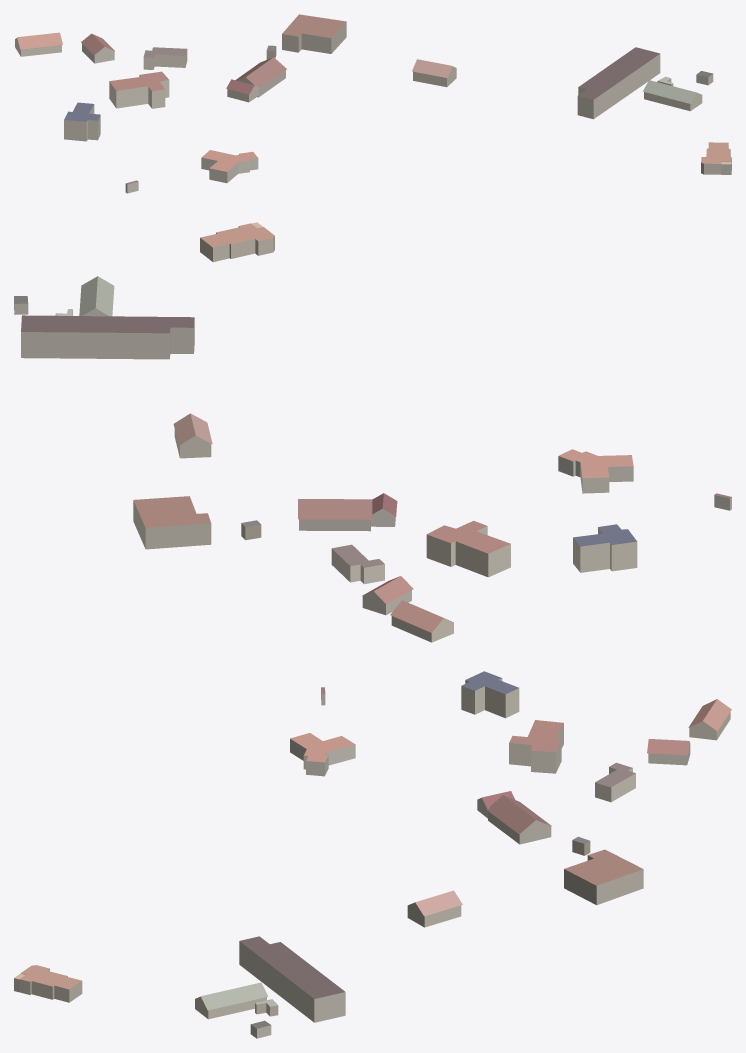
3 views of the same model, one above another, from view 1: azimuth 30°, elevation 25°; view 2: azimuth 150°, elevation 25°; view 3: azimuth 270°, elevation 25° (orthographic). The views are drawn at different scales.
Visible parts, largest first — view 1: tuile; view 2: tuile; view 3: tuile.
Part boxes in pixels (x1=…): tuile: x1=15, y1=14, x2=731, y2=193; tuile: x1=14, y1=222, x2=731, y2=642; tuile: x1=14, y1=671, x2=731, y2=1038.
Size of the model in its own units: 251 by 13.89 by 228.
